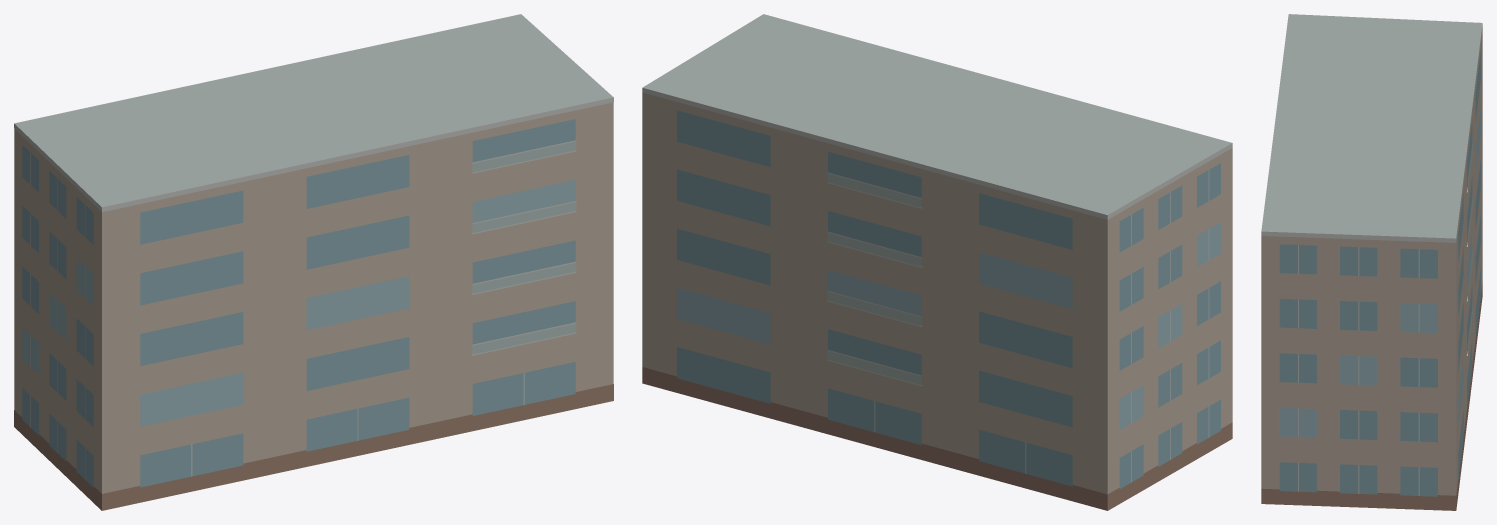
Rendered from survey-upis-32758431.glb.
3 renders of one model, left to right at view 1: azimuth 30°, elevation 25°; view 2: azimuth 150°, elevation 25°; view 3: azimuth 270°, elevation 25°, orthographic. The views are drawn at different scales.
Parts seen in each view (by area): view 1: survey-upis-32758431.tmp; view 2: survey-upis-32758431.tmp; view 3: survey-upis-32758431.tmp.
Boxes of the visible parts, box(x1,y1,x2,y2) form: survey-upis-32758431.tmp: box(14, 14, 613, 510); survey-upis-32758431.tmp: box(642, 14, 1232, 510); survey-upis-32758431.tmp: box(1261, 14, 1482, 510).
Size of the model in its own units: 26.97 by 15.25 by 11.24.
